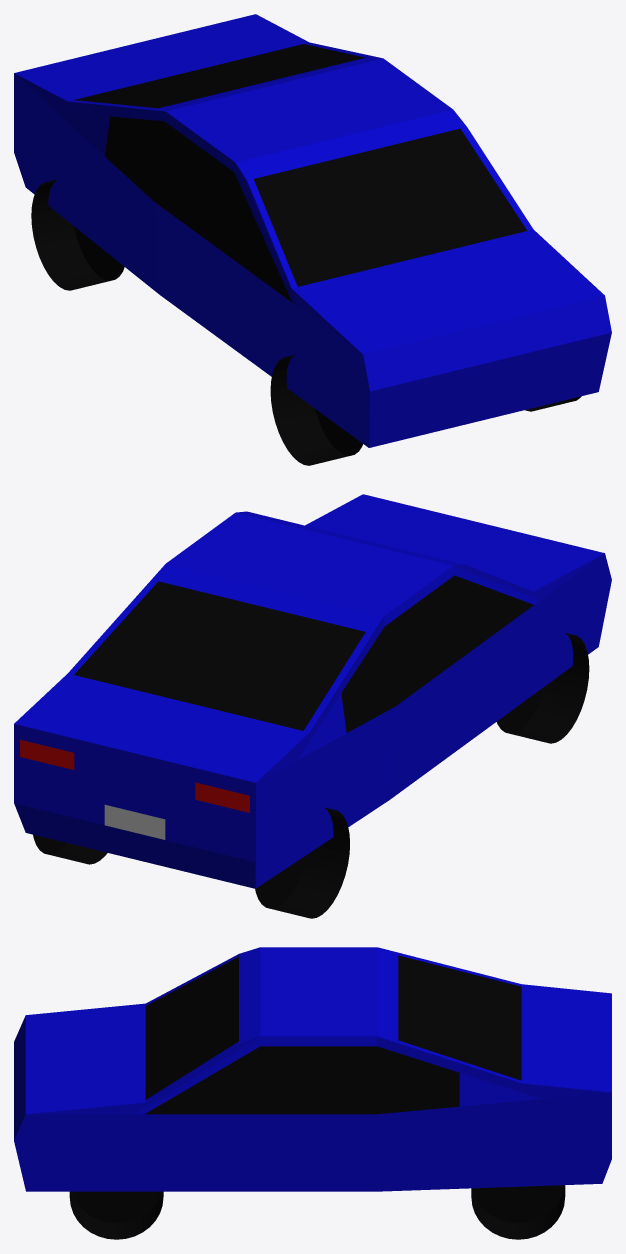
The model's file is bluecar.obj.
3 views of the same model, one above another, from view 1: azimuth 30°, elevation 25°; view 2: azimuth 150°, elevation 25°; view 3: azimuth 270°, elevation 25° (orthographic). The views are drawn at different scales.
Visible parts, largest first — view 1: Cube; view 2: Cube; view 3: Cube.
Boxes of the visible parts, bbox=[...] form: Cube: bbox=[14, 14, 611, 465]; Cube: bbox=[14, 494, 611, 918]; Cube: bbox=[14, 947, 611, 1239].
Size of the model in its own units: 0.5431 by 0.4566 by 1.27.
